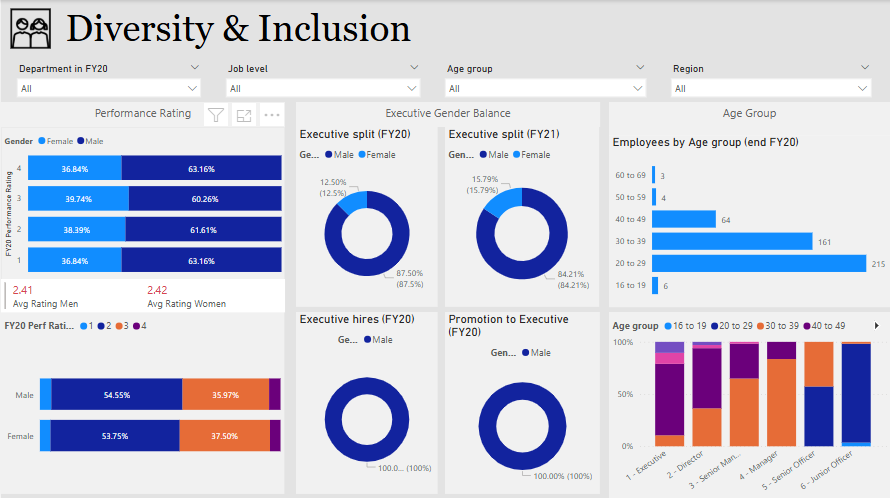

This screenshot's page, from the dashboard's own definition file:
{"tool":"powerbi","page":{"name":"HR Manager Data (2/2)","canvas":[1280,720],"ordinal":1},"visuals":[{"type":"clusteredBarChart","title":"Employees by Age group (end FY20)","fields":{"Category":["Pharma Group AG.Age group"],"Y":["CountNonNull(Pharma Group AG.Employee ID)"]},"box":[875.5,194.4,404.6,247.7],"z":0},{"type":"hundredPercentStackedBarChart","title":"Performance Ratings for New Hires vs. Existing Employees","fields":{"Category":["Pharma Group AG.FY20 Performance Rating"],"Y":["CountNonNull(Pharma Group AG.Employee ID)"],"Series":["Pharma Group AG.Gender"]},"box":[0,182.9,409,221.8],"z":1000},{"type":"hundredPercentStackedBarChart","title":"Performance rating FY20","fields":{"Series":["Pharma Group AG.FY20 Performance Rating"],"Category":["Pharma Group AG.Gender"],"Y":["CountNonNull(Pharma Group AG.Employee ID)"]},"box":[0,449.3,407.5,262.1],"z":2000},{"type":"donutChart","title":"Executive split (FY20)","fields":{"Category":["Pharma Group AG.Gender"],"Y":["CountNonNull(Pharma Group AG.Employee ID)"]},"box":[424.8,182.9,204.5,259.2],"z":3000},{"type":"donutChart","title":"Executive split (FY21)","fields":{"Category":["Pharma Group AG.Gender"],"Y":["CountNonNull(Pharma Group AG.Employee ID)"]},"box":[639.4,182.9,221.8,259.2],"z":4000},{"type":"hundredPercentStackedColumnChart","fields":{"Series":["Pharma Group AG.Age group"],"Category":["Pharma Group AG.Job Level after FY21 promotions"],"Y":["CountNonNull(Pharma Group AG.Employee ID)"]},"box":[875.5,449.3,404.6,270.7],"z":5000},{"type":"slicer","fields":{"Values":["Pharma Group AG.Last Department in FY20"]},"box":[13.4,85.6,285.2,62.1],"z":6000},{"type":"slicer","fields":{"Values":["Pharma Group AG.Job Level after FY20 promotions"]},"box":[313.7,85.6,300.3,62.1],"z":7000},{"type":"slicer","fields":{"Values":["Pharma Group AG.Age group"]},"box":[629.1,85.6,310.4,62.1],"z":8000},{"type":"slicer","fields":{"Values":["Pharma Group AG.Broad region group: nationality 1"]},"box":[954.5,85.6,308.7,62.1],"z":9000},{"type":"textbox","box":[87.2,5,1174.3,75.5],"z":10000},{"type":"image","box":[8.7,0,67.5,81],"z":11000},{"type":"donutChart","title":"Executive hires (FY20)","fields":{"Category":["Pharma Group AG.Gender"],"Y":["CountNonNull(Pharma Group AG.Employee ID)"]},"box":[424.8,449.3,204.5,262.1],"z":12000},{"type":"donutChart","title":"Promotion to Executive (FY20)","fields":{"Category":["Pharma Group AG.Gender"],"Y":["CountNonNull(Pharma Group AG.Employee ID)"]},"box":[639.4,449.3,223.2,262.1],"z":13000},{"type":"textbox","box":[0,146.9,409,36],"z":13001},{"type":"textbox","box":[424.8,146.9,437.8,36],"z":13002},{"type":"textbox","box":[875.5,146.9,404.6,47.5],"z":13003},{"type":"multiRowCard","fields":{"Values":["Pharma Group AG.Avg Rating Men","Pharma Group AG.Avg Rating Women"]},"box":[0,401.8,409,47.5],"z":13004}]}

Visuals, with their boxes in screenshot pixels (x1, y1, x2, y2), scaled from the page's 1280x720 canvas onto the 890x498 screenshot:
"Employees by Age group (end FY20)" clusteredBarChart: select_region(609, 134, 889, 306)
"Performance Ratings for New Hires vs. Existing Employees" hundredPercentStackedBarChart: select_region(0, 127, 284, 280)
"Performance rating FY20" hundredPercentStackedBarChart: select_region(0, 311, 283, 492)
"Executive split (FY20)" donutChart: select_region(295, 127, 438, 306)
"Executive split (FY21)" donutChart: select_region(445, 127, 599, 306)
hundredPercentStackedColumnChart - Pharma Group AG.Age group x Pharma Group AG.Job Level after FY21 promotions: select_region(609, 311, 889, 497)
slicer - Pharma Group AG.Last Department in FY20: select_region(9, 59, 208, 102)
slicer - Pharma Group AG.Job Level after FY20 promotions: select_region(218, 59, 427, 102)
slicer - Pharma Group AG.Age group: select_region(437, 59, 653, 102)
slicer - Pharma Group AG.Broad region group: nationality 1: select_region(664, 59, 878, 102)
textbox: select_region(61, 3, 877, 56)
image: select_region(6, 0, 53, 56)
"Executive hires (FY20)" donutChart: select_region(295, 311, 438, 492)
"Promotion to Executive (FY20)" donutChart: select_region(445, 311, 600, 492)
textbox: select_region(0, 102, 284, 127)
textbox: select_region(295, 102, 600, 127)
textbox: select_region(609, 102, 889, 134)
multiRowCard - Pharma Group AG.Avg Rating Men x Pharma Group AG.Avg Rating Women: select_region(0, 278, 284, 311)
